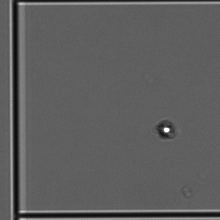Living Cell: (155, 117, 178, 139)
